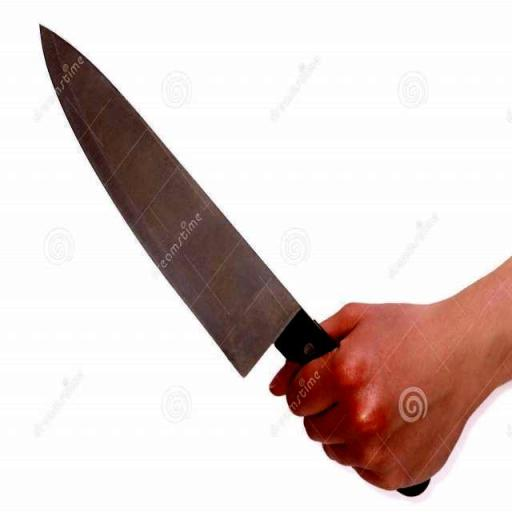knife: (34, 17, 360, 415)
